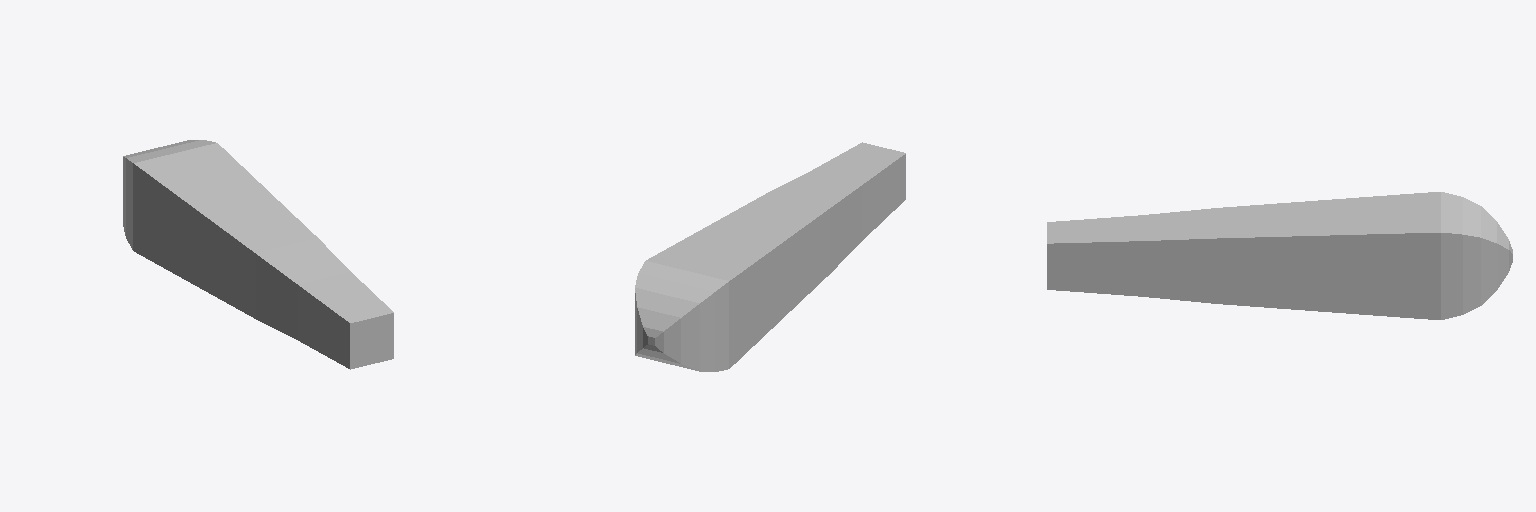
The model's file is bullet.obj.
3 views of the same model, side by side, from view 1: azimuth 30°, elevation 25°; view 2: azimuth 150°, elevation 25°; view 3: azimuth 270°, elevation 25° (orthographic).
Visible parts, largest first — view 1: Cube; view 2: Cube; view 3: Cube.
Boxes of the visible parts, x1,y1,x2,y2 form: Cube: [123, 140, 393, 369]; Cube: [635, 142, 905, 371]; Cube: [1047, 192, 1512, 319].
Bounding box in the file's own units: 0.2505 × 0.2505 × 1.2.